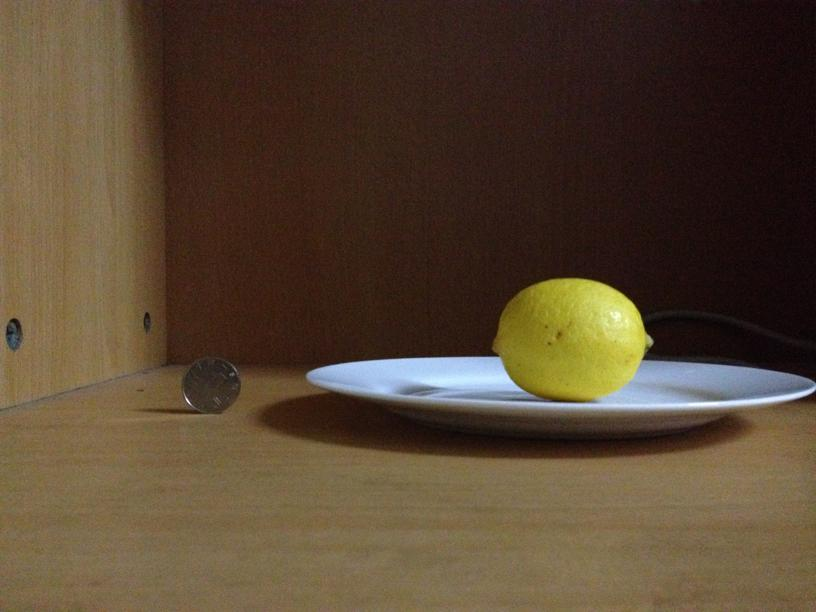coin: (177, 356, 240, 413)
lemon: (493, 279, 651, 401)
